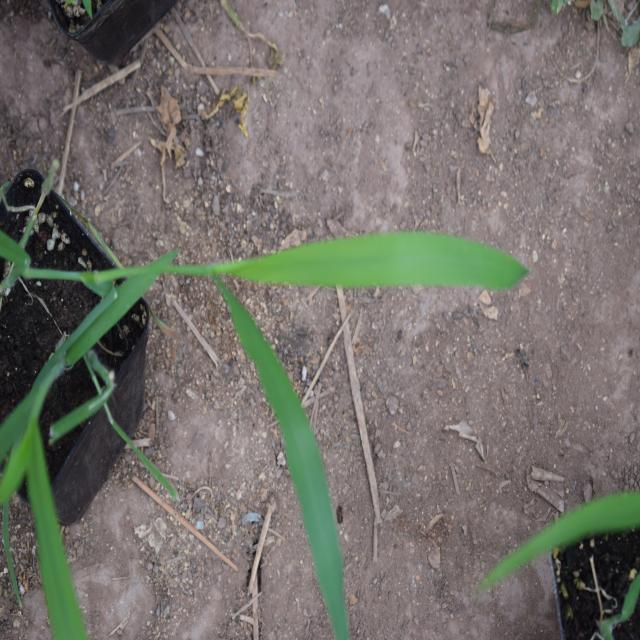crabgrass: (148, 174, 539, 598)
